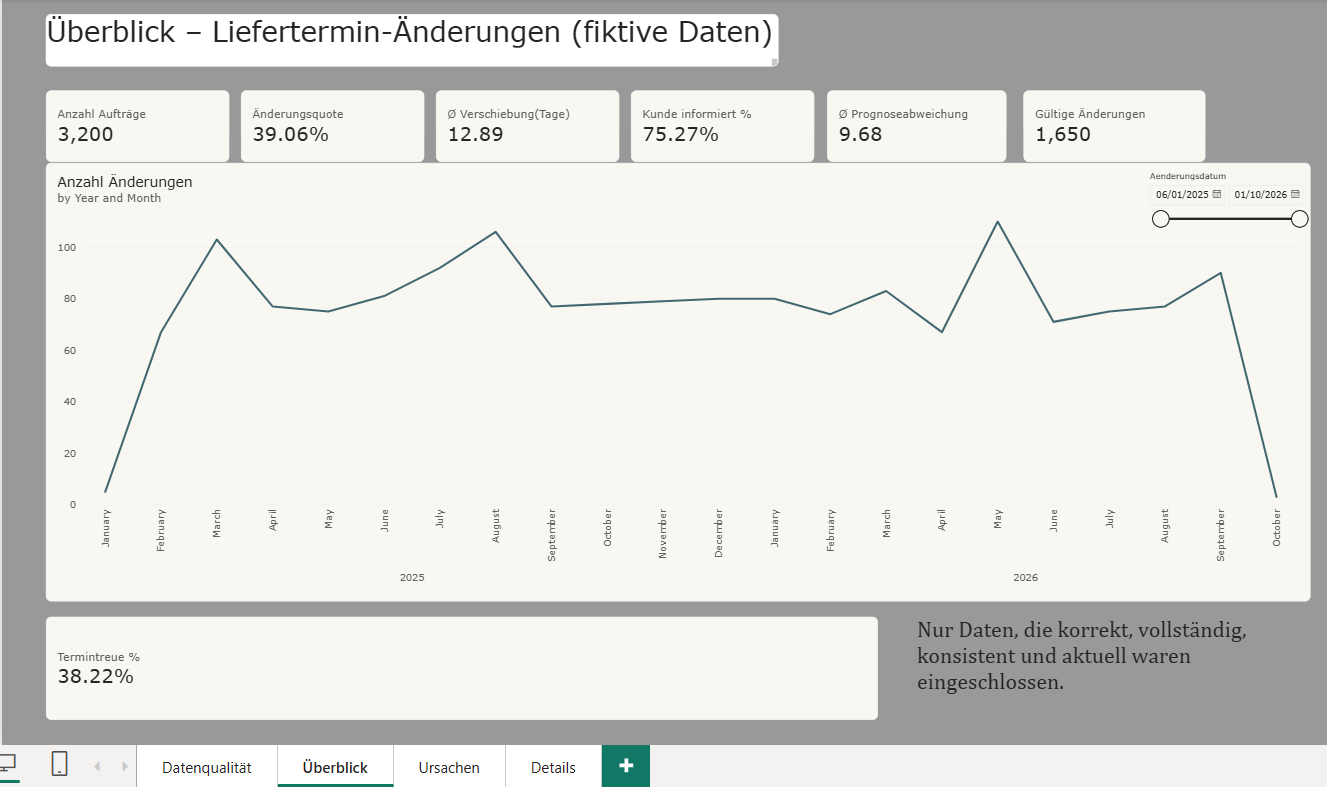

Layout of this report page (visuals, bound fields, positions):
{"tool":"powerbi","page":{"name":"Überblick","canvas":[1920,1080],"ordinal":1},"visuals":[{"type":"cardVisual","fields":{"Data":["Terminaenderungen2.Kunde informiert %"]},"box":[910.3,131.9,266,105],"z":0},{"type":"cardVisual","fields":{"Data":["Terminaenderungen2.Änderungsquote"]},"box":[345.6,131.9,266,105],"z":1000},{"type":"cardVisual","fields":{"Data":["Terminaenderungen2.Ø Verschiebung"]},"box":[628,131.9,266,105],"z":2000},{"type":"cardVisual","fields":{"Data":["Auftraege.Anzahl Aufträge (Karte)"]},"box":[63.3,131.9,266,105],"z":3000},{"type":"cardVisual","fields":{"Data":["Auftraege1.Ø Prognoseabweichung"]},"box":[1194.4,131.9,260.6,105],"z":4000},{"type":"lineChart","fields":{"Category":["Terminaenderungen2.Aenderungsdatum.Variation.Date Hierarchy.Year","Terminaenderungen2.Aenderungsdatum.Variation.Date Hierarchy.Month"],"Y":["Terminaenderungen2.Anzahl Änderungen"]},"box":[63.3,237.1,1831.4,635.2],"z":5000},{"type":"slicer","fields":{"Values":["Terminaenderungen2.Aenderungsdatum"]},"box":[1654,247.9,240.7,123.1],"z":6000},{"type":"cardVisual","fields":{"Data":["Terminaenderungen.Datensätze gesamt"]},"box":[1478.5,131.9,264.2,105],"z":7000},{"type":"textbox","title":"Überblick – Liefertermin-Änderungen (fiktive Daten)","box":[63.3,21.7,1060.5,76],"z":8000},{"type":"textbox","box":[1324.7,894,551.9,170.1],"z":9000},{"type":"cardVisual","fields":{"Data":["Auftraege.Termintreue %"]},"box":[63.3,894,1205.2,150.2],"z":11000}]}

Visuals, with their boxes on the page's 1920x1080 design canvas (x1, y1, x2, y2). These are canvas units, not pixel positions in the 1327x787 screenshot, which may show the page scaled, cropped or inside an application window:
cardVisual - Terminaenderungen2.Kunde informiert %: <region>910, 132, 1176, 237</region>
cardVisual - Terminaenderungen2.Änderungsquote: <region>346, 132, 612, 237</region>
cardVisual - Terminaenderungen2.Ø Verschiebung: <region>628, 132, 894, 237</region>
cardVisual - Auftraege.Anzahl Aufträge (Karte): <region>63, 132, 329, 237</region>
cardVisual - Auftraege1.Ø Prognoseabweichung: <region>1194, 132, 1455, 237</region>
lineChart - Terminaenderungen2.Aenderungsdatum.Variation.Date Hierarchy.Year x Terminaenderungen2.Aenderungsdatum.Variation.Date Hierarchy.Month: <region>63, 237, 1895, 872</region>
slicer - Terminaenderungen2.Aenderungsdatum: <region>1654, 248, 1895, 371</region>
cardVisual - Terminaenderungen.Datensätze gesamt: <region>1478, 132, 1743, 237</region>
"Überblick – Liefertermin-Änderungen (fiktive Daten)" textbox: <region>63, 22, 1124, 98</region>
textbox: <region>1325, 894, 1877, 1064</region>
cardVisual - Auftraege.Termintreue %: <region>63, 894, 1268, 1044</region>
